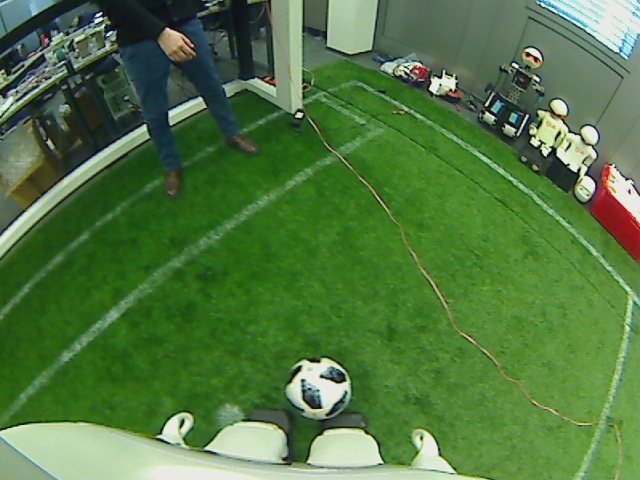ball: (282, 357, 353, 422)
